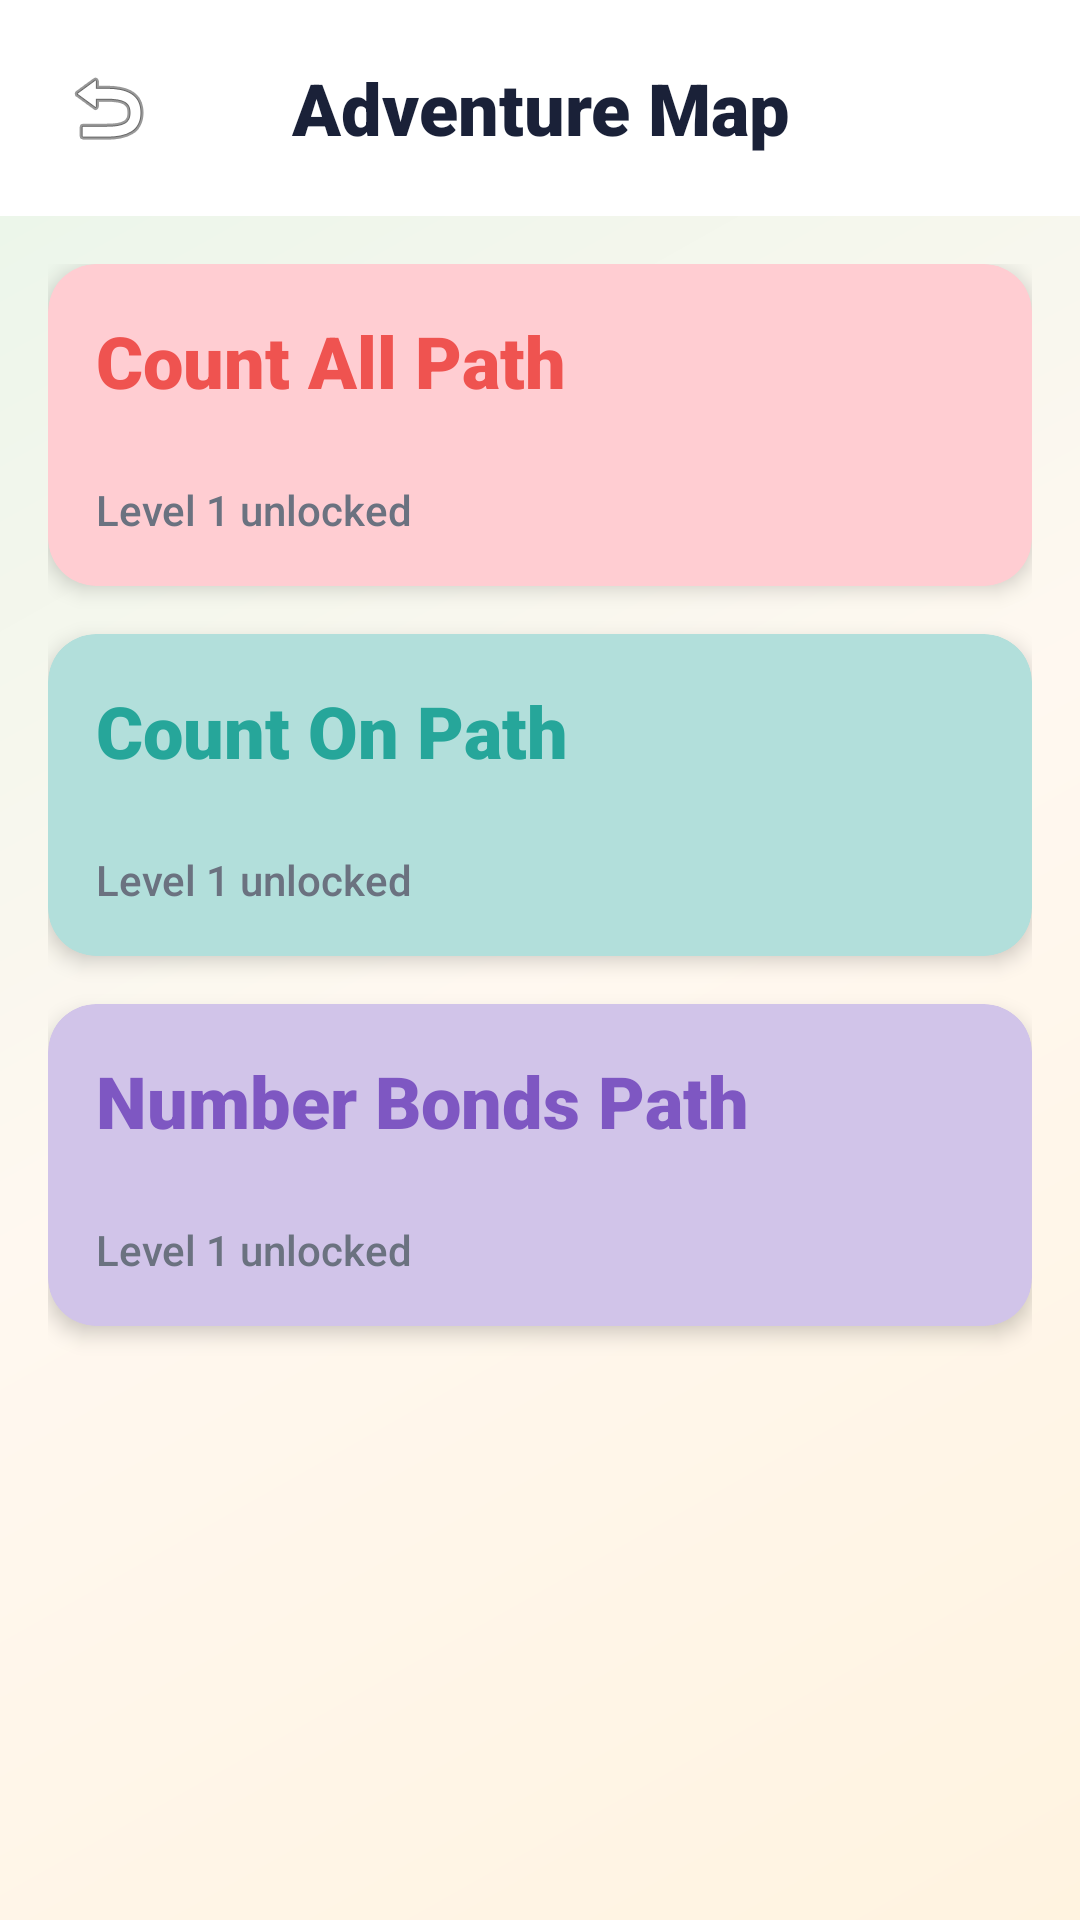

Named icons in this screenshot (1080×1920) and their bounding boxes, [x1=x1, y1=y1, x2=x2, y2=y2]:
Back: [x1=75, y1=77, x2=144, y2=140]
